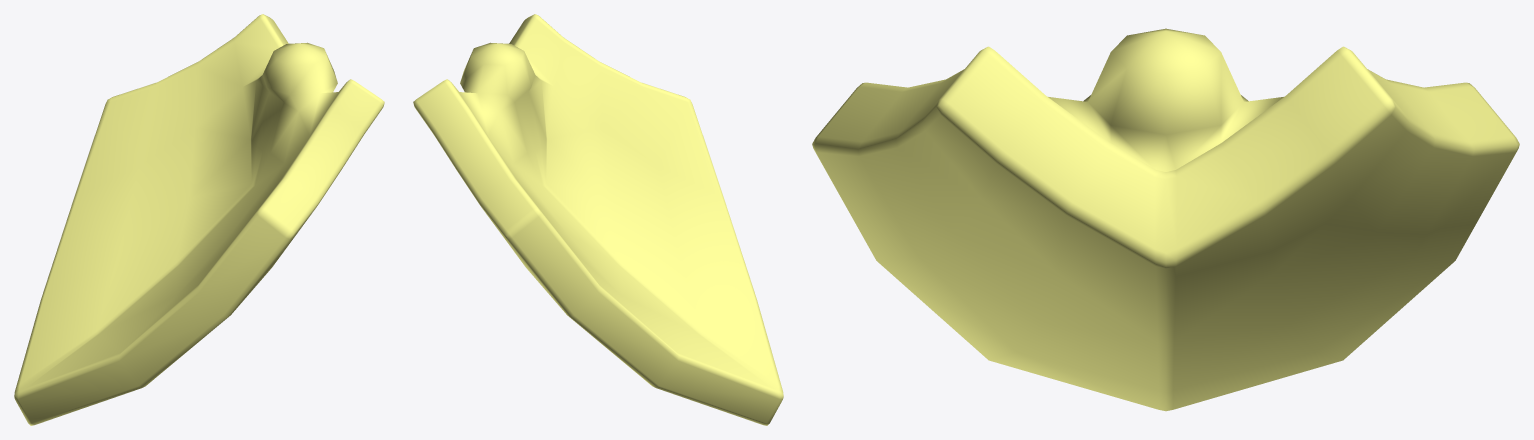
Rendered from Unit_Armor_Hips.FBX.
The picture shows the model from 3 angles, left to right: view 1: azimuth 30°, elevation 25°; view 2: azimuth 150°, elevation 25°; view 3: azimuth 270°, elevation 25°; orthographic projection. The views are drawn at different scales.
Parts seen in each view (by area): view 1: Unit_Armor_Hips; view 2: Unit_Armor_Hips; view 3: Unit_Armor_Hips.
Part boxes in pixels (box(x1,y1,x2,y2)): Unit_Armor_Hips: box(14, 14, 384, 425); Unit_Armor_Hips: box(413, 14, 783, 425); Unit_Armor_Hips: box(812, 28, 1519, 411).
Size of the model in its own units: 17.57 by 15.67 by 15.88.
